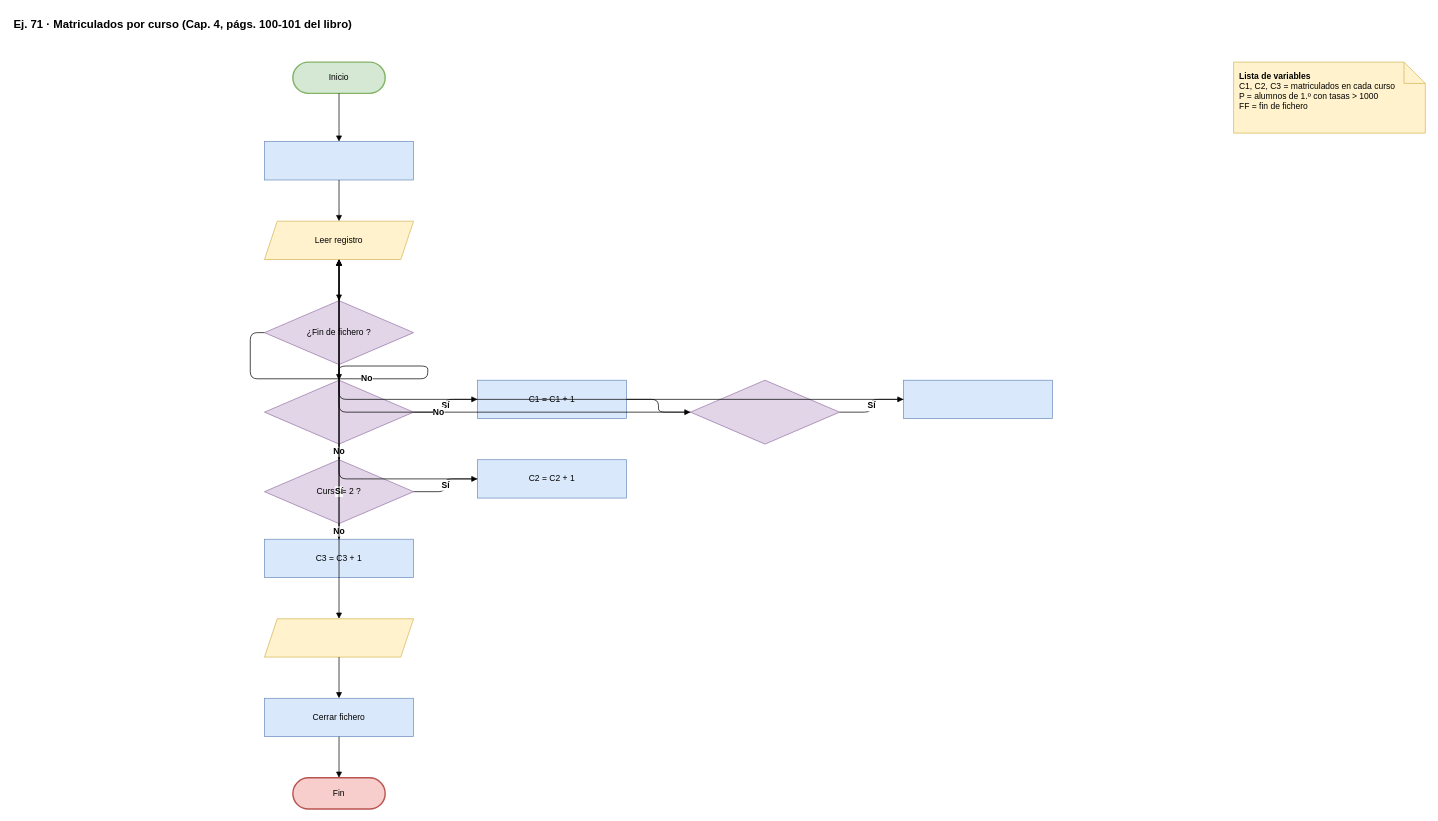
This 1438x821 diagram has some shape labels left out. Each missing label, with the centre of its shape:
C1 = C2 = C3 = 0 ; P = 0 ; Abrir fichero: (339,160)
Curso = 1 ?: (339,411)
Escribir C1, C2, C3, P: (339,637)
P = P + 1: (978,399)
Tasas > 1000 ?: (765,411)
